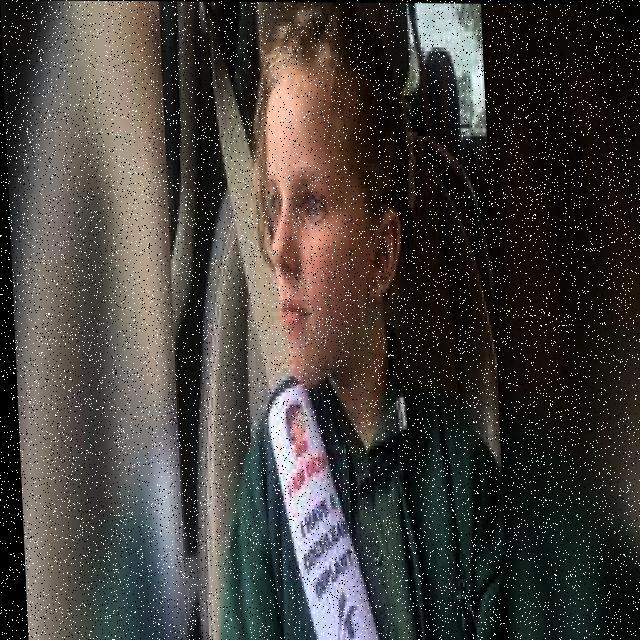seatbelt: (218, 351, 393, 640)
